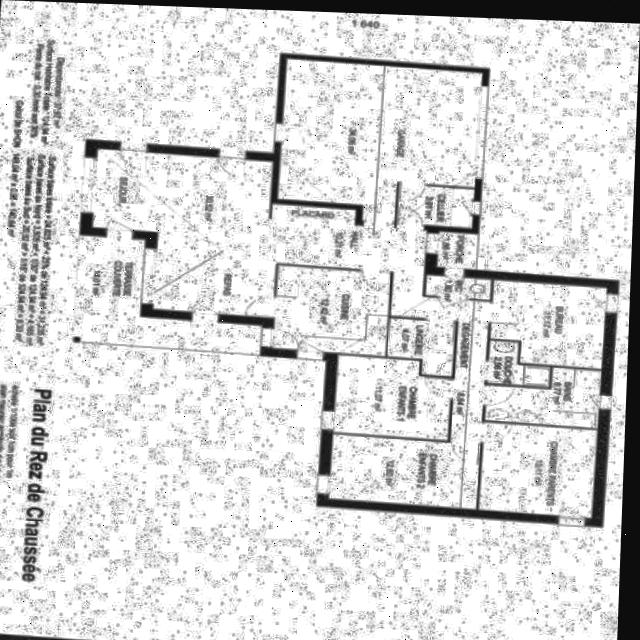room: (249, 150, 555, 455), (272, 59, 477, 231), (84, 153, 278, 320), (327, 436, 478, 511), (477, 423, 595, 518), (269, 268, 387, 358), (486, 281, 603, 370), (331, 357, 451, 442), (482, 365, 598, 429), (384, 319, 453, 378), (393, 186, 471, 230), (484, 342, 548, 388), (422, 277, 488, 301)
